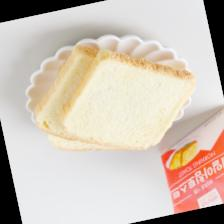bread: (47, 31, 206, 164)
